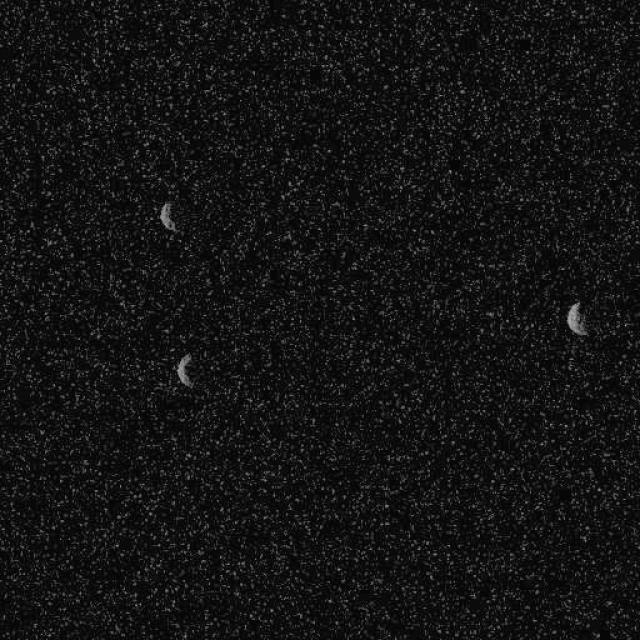D2: (565, 300, 589, 336), (175, 352, 194, 388), (158, 200, 178, 232)
